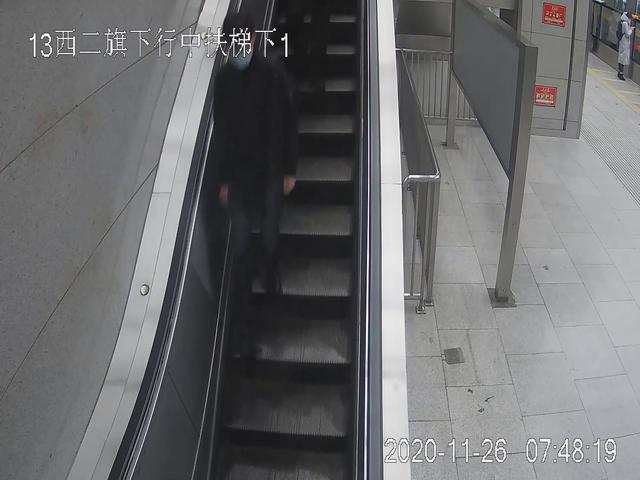person: (208, 18, 300, 363), (615, 9, 637, 79)
